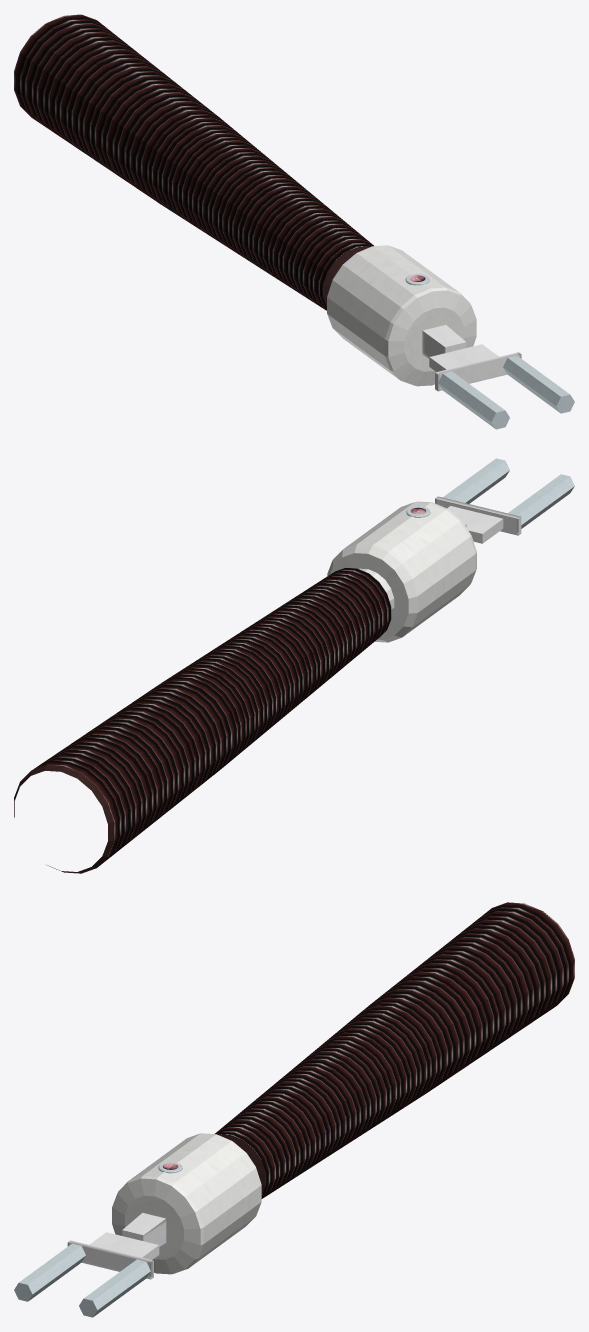
Rendered from 220kvtg005-geode.glb.
3 views of the same model, one above another, from view 1: azimuth 30°, elevation 25°; view 2: azimuth 150°, elevation 25°; view 3: azimuth 330°, elevation 25° (orthographic).
Parts seen in each view (by area): view 1: Node; view 2: Node; view 3: Node.
Part boxes in pixels (x1=…): Node: x1=14, y1=14, x2=574, y2=429; Node: x1=14, y1=458, x2=574, y2=873; Node: x1=14, y1=902, x2=574, y2=1317.
Size of the model in its own units: 0.3903 by 0.3961 by 3.18.
Materials: 5 (5 with a texture image).
